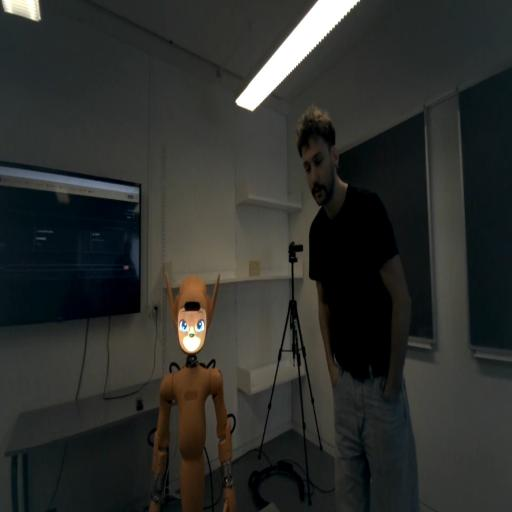Robot: (165, 270, 220, 356)
TV: (1, 171, 140, 321)
